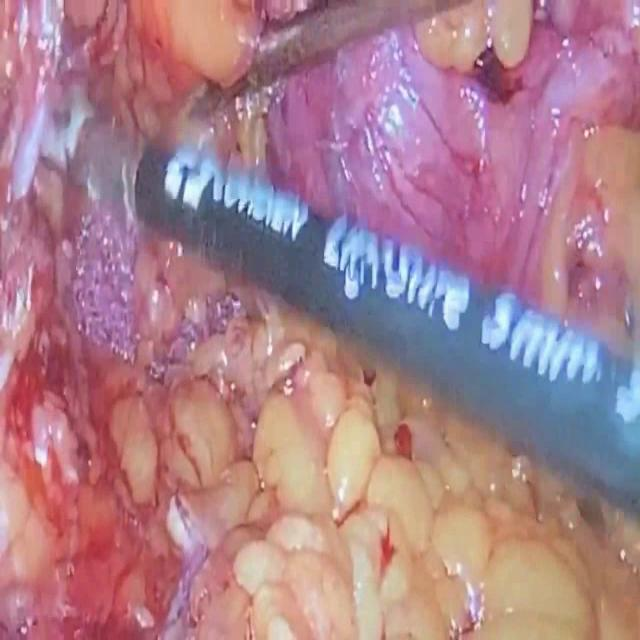surgical-tool: (35, 81, 640, 515), (236, 2, 470, 95)
